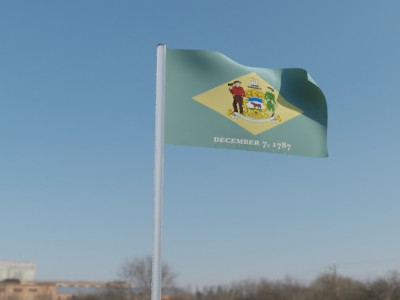Delaware flag: (165, 46, 333, 160)
